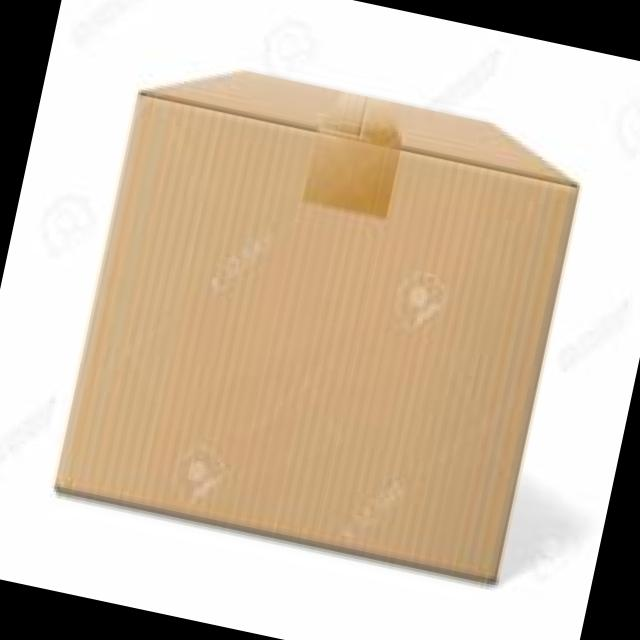box: (51, 68, 578, 588)
